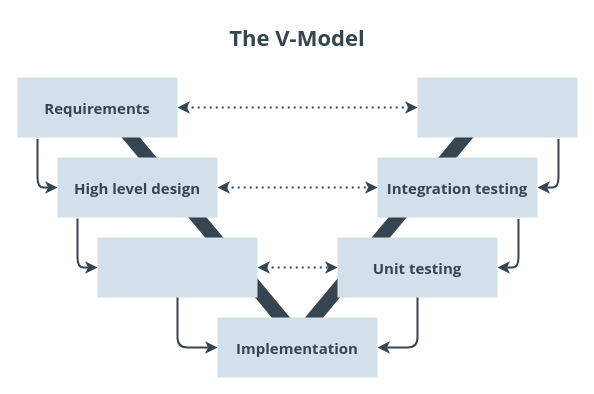
Image size: 594x394. Some labels were removed from this diagram. The centre of each missing label's shape, as x and y in pixels:
"Acceptance and System testing" goes at point 497,107.
"Low level design" goes at point 177,267.
